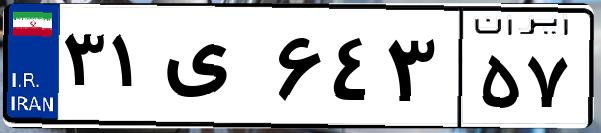1: (110, 28, 158, 98)
3: (385, 28, 445, 110), (57, 26, 110, 100)
4: (330, 28, 385, 110)
5: (475, 38, 525, 113)
6: (270, 28, 330, 110)
7: (525, 38, 570, 115)
ی: (158, 20, 270, 120)
